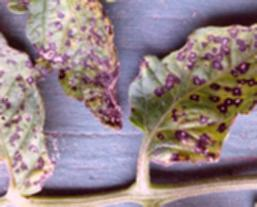Tomato Septoria leaf spot: (134, 10, 257, 165), (16, 0, 133, 142), (0, 0, 58, 205)
